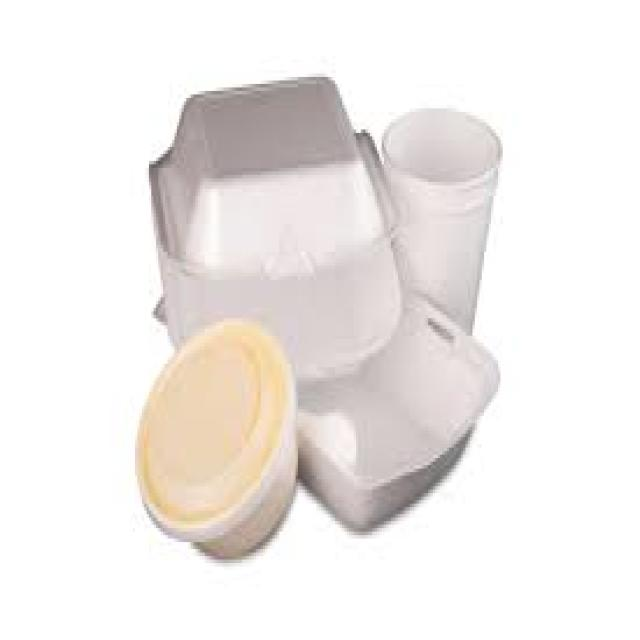styrofoam: (142, 70, 500, 539)
